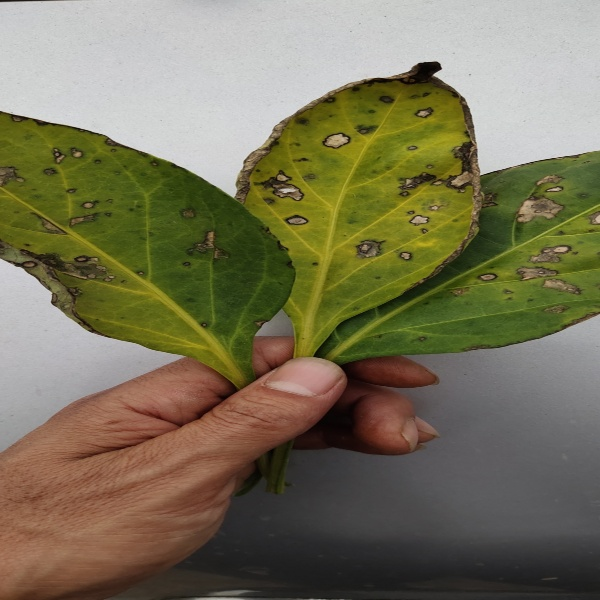Anthrax: (236, 62, 479, 258), (1, 115, 227, 284), (476, 172, 600, 321), (439, 280, 477, 306)
